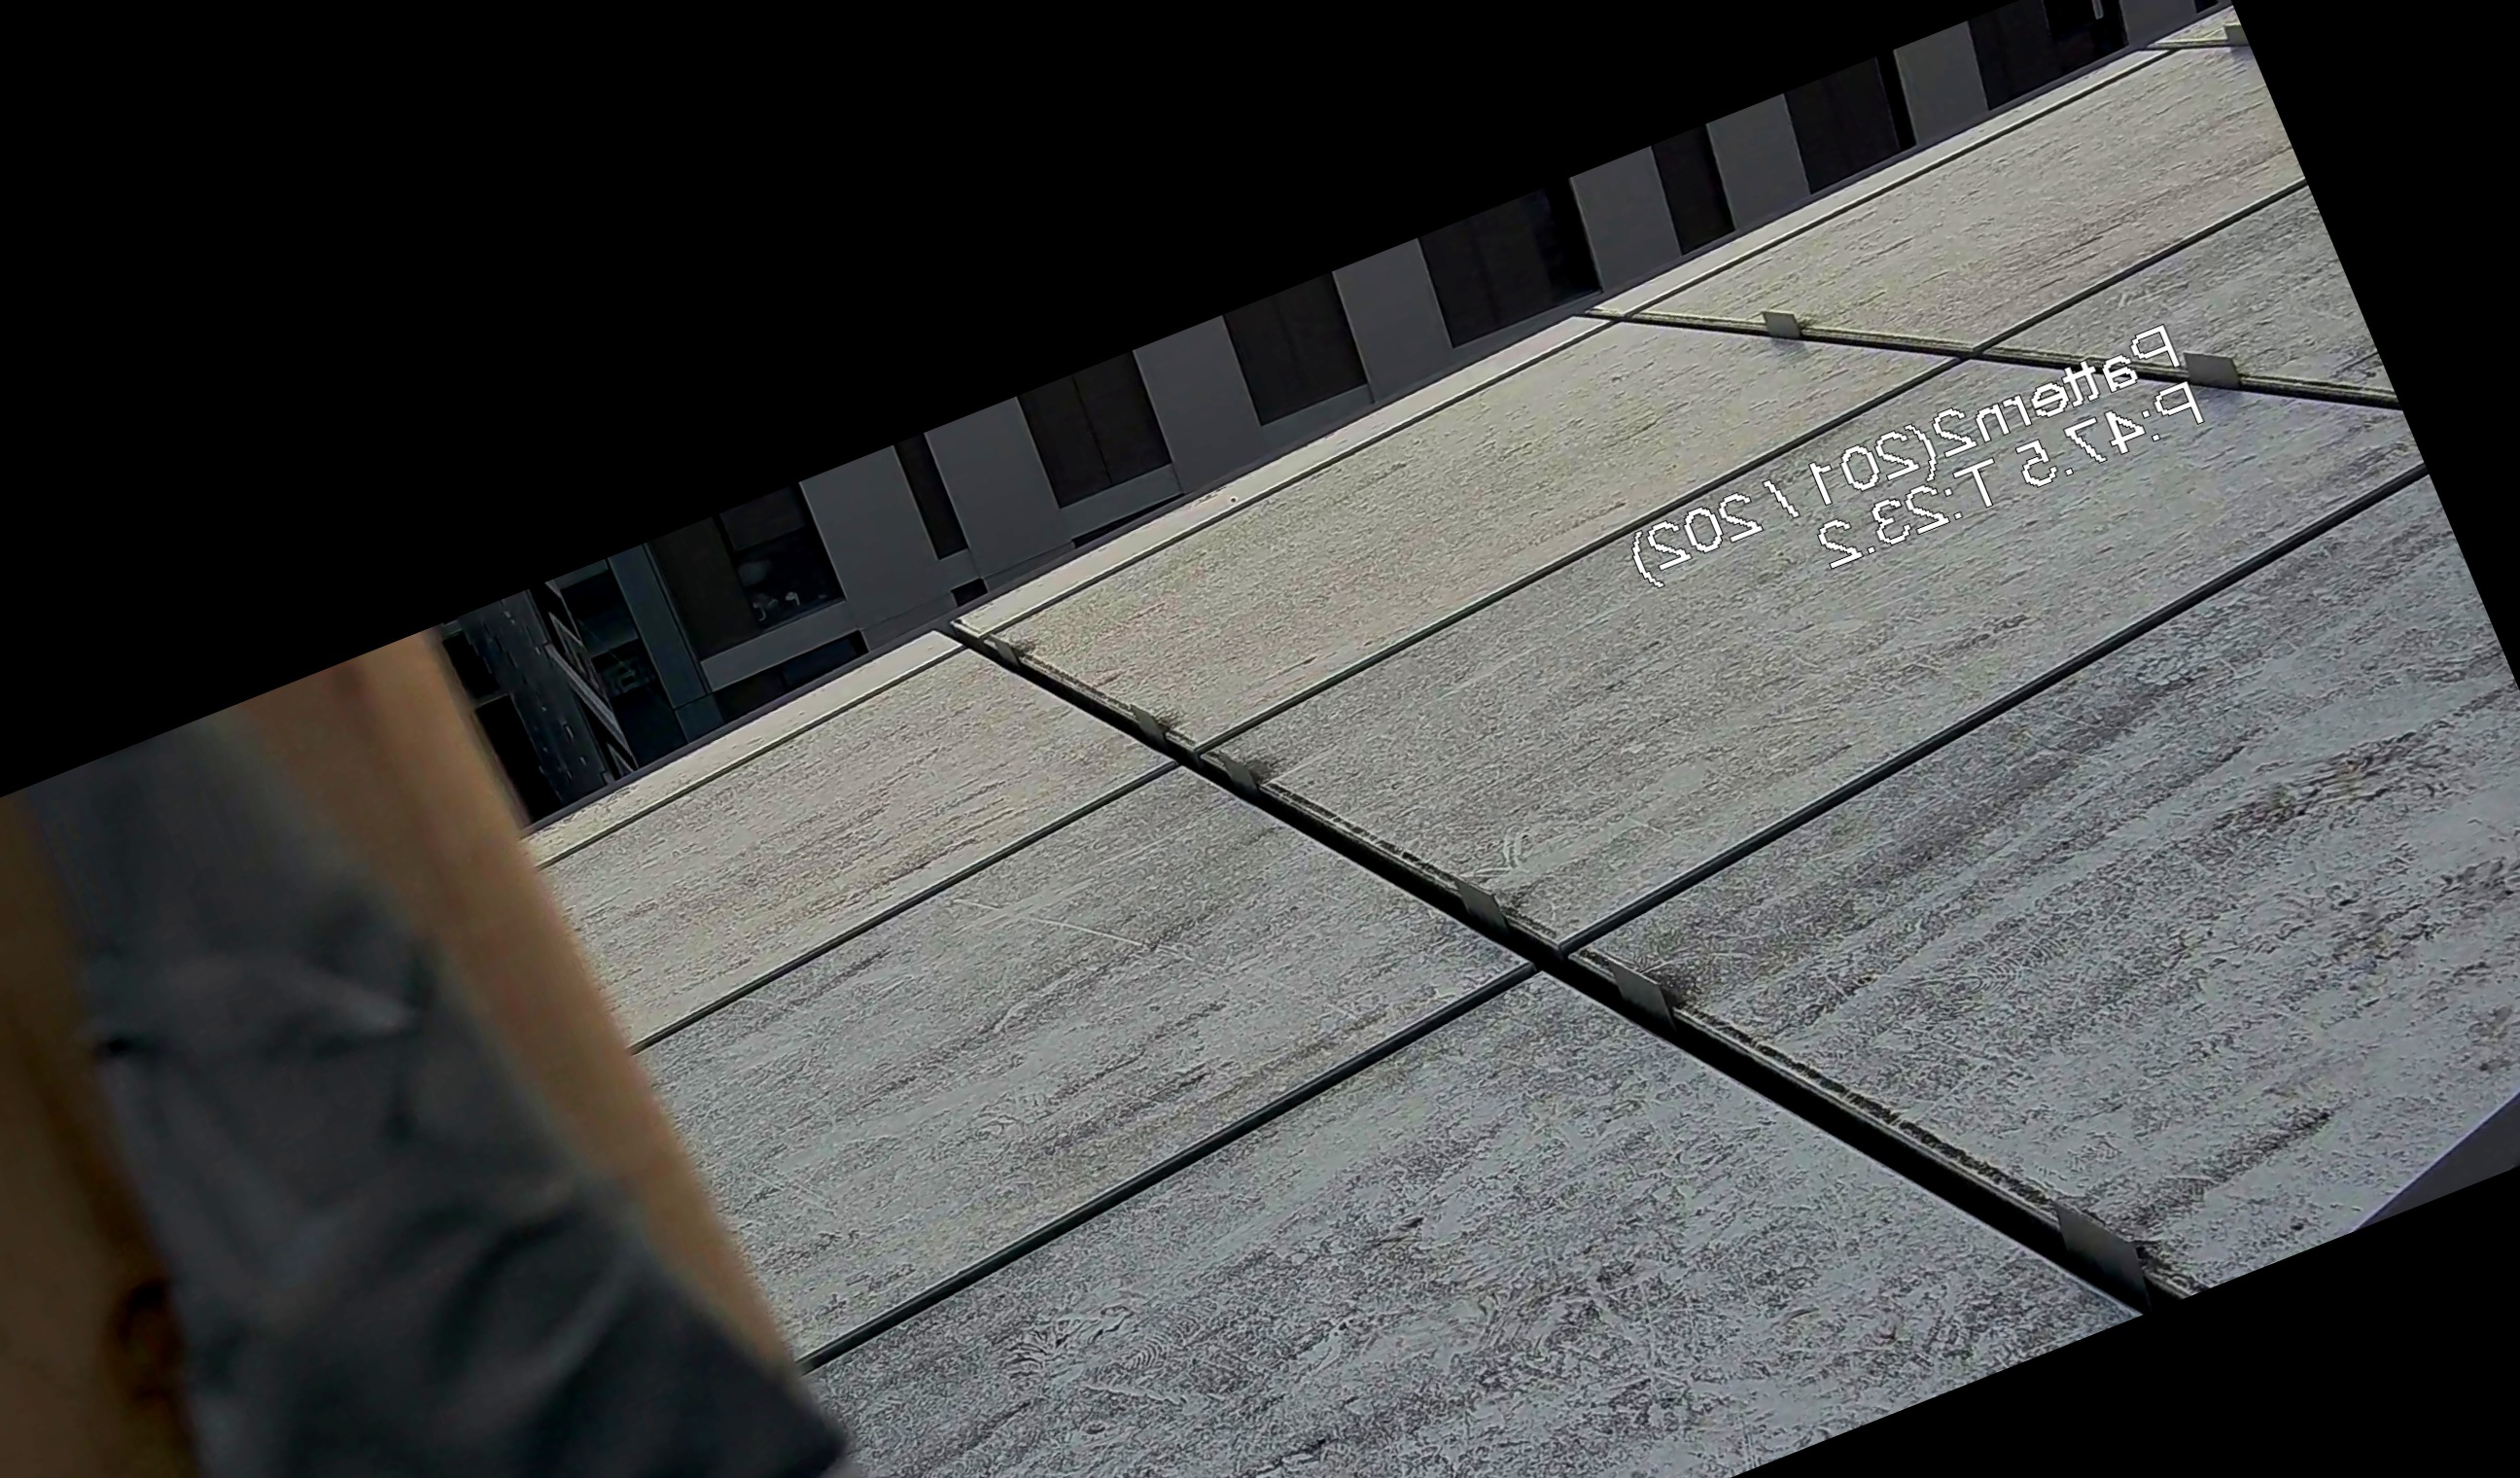Other: (0, 505, 1031, 1478)
